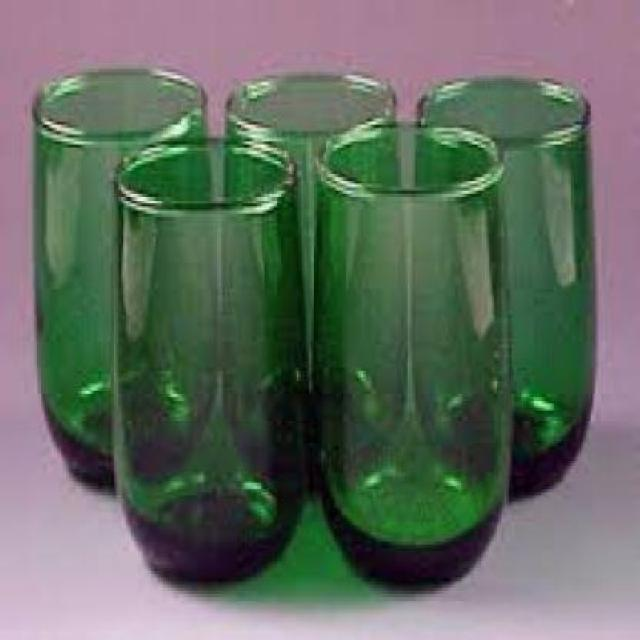kaca: (306, 118, 509, 588), (111, 135, 306, 576), (32, 66, 210, 480), (222, 72, 403, 478), (416, 75, 592, 492)
